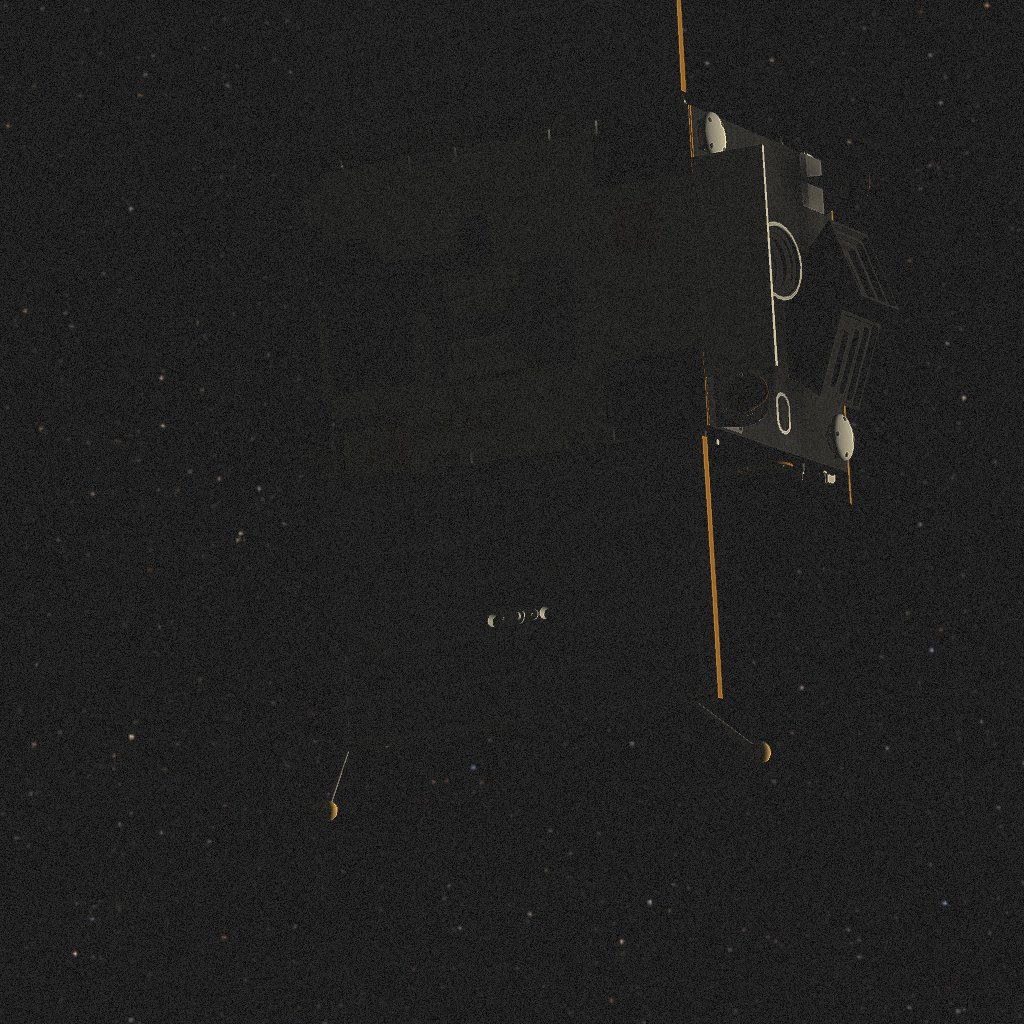proba_2: (259, 12, 857, 805)
